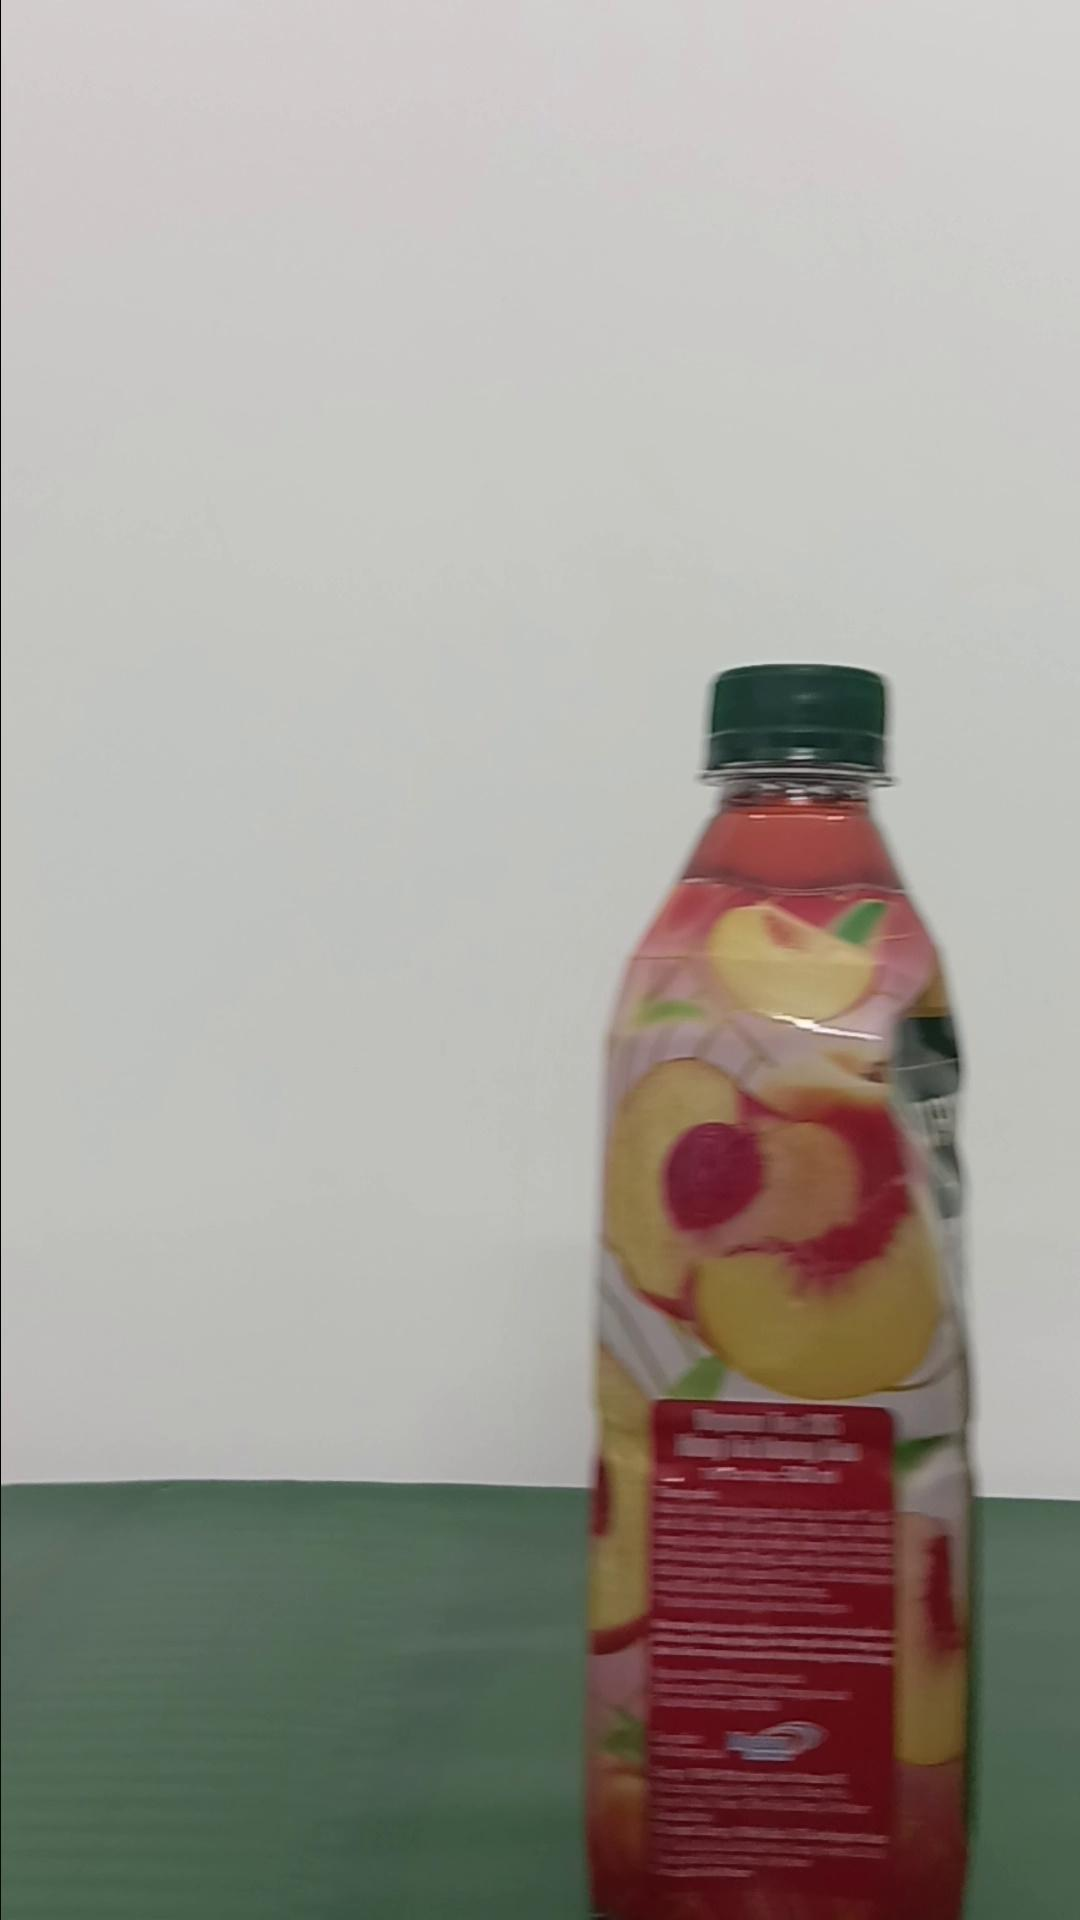loi meo sp: (580, 659, 980, 1913)
